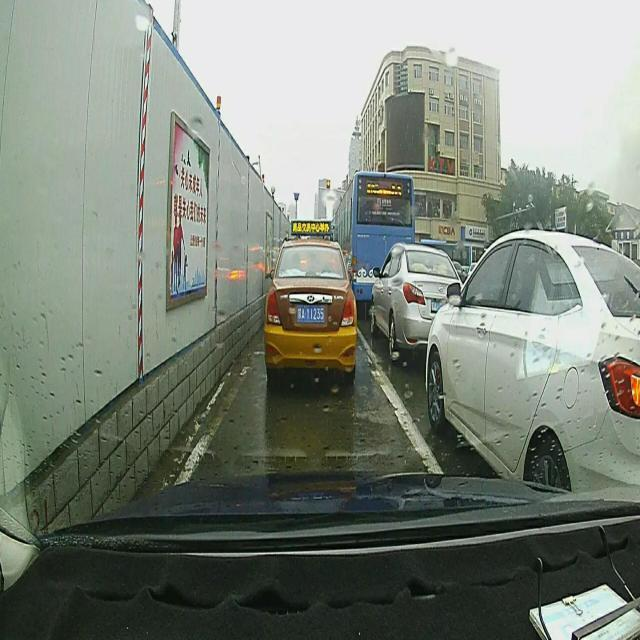car: (424, 228, 640, 480), (264, 220, 356, 384), (370, 241, 464, 357)
